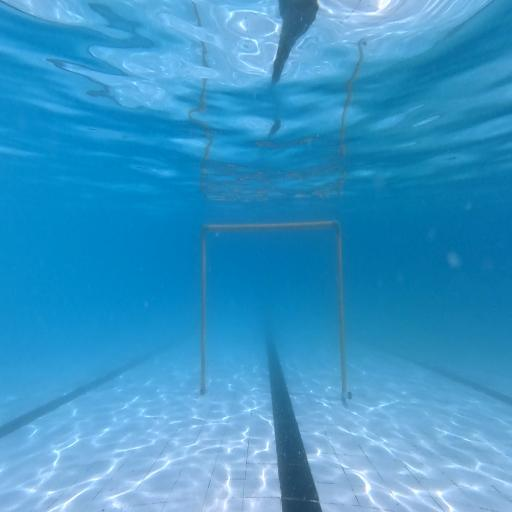gate: (200, 220, 352, 400)
